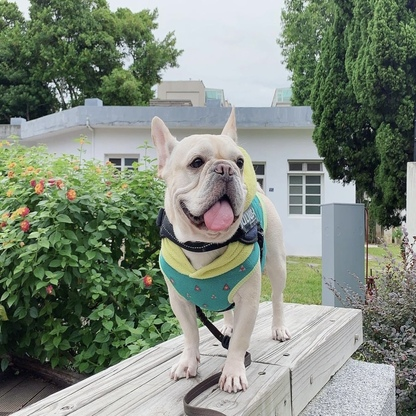bulldog: (147, 103, 292, 394)
